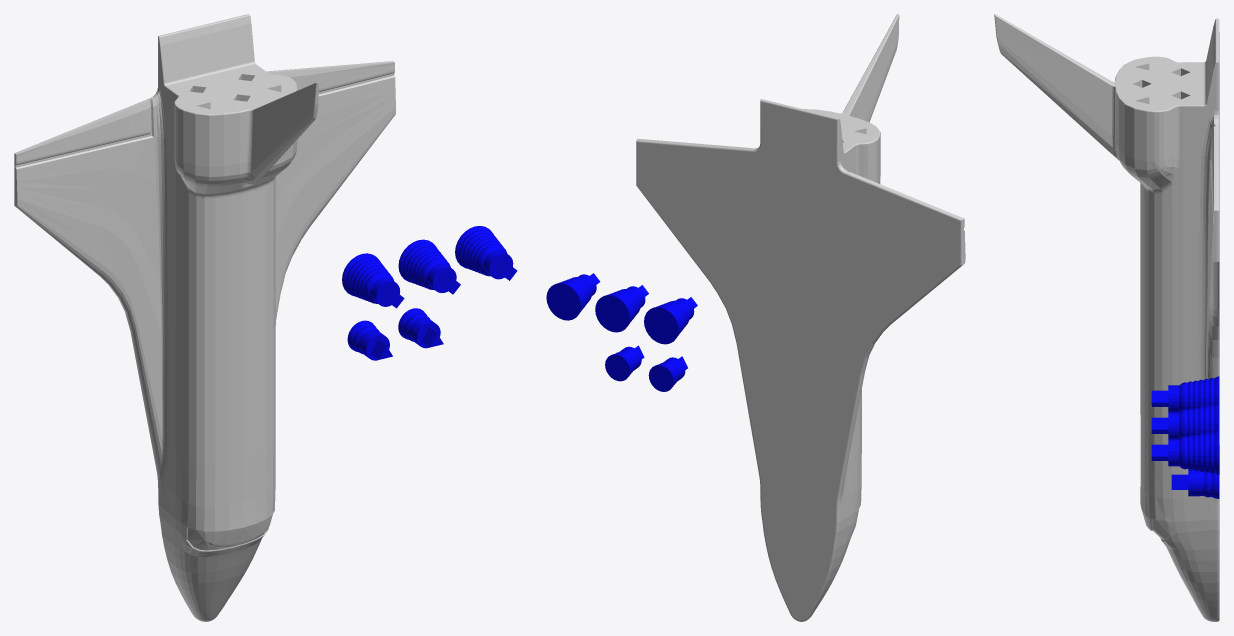
The model's file is Space Shuttle.obj.
The picture shows the model from 3 angles, left to right: view 1: azimuth 30°, elevation 25°; view 2: azimuth 150°, elevation 25°; view 3: azimuth 270°, elevation 25°; orthographic projection. The views are drawn at different scales.
Visible parts, largest first — view 1: Object.1, Object.5, Object.2, Object.4, Object.6, Object.3; view 2: Object.1, Object.2, Object.4, Object.5, Object.3, Object.6; view 3: Object.1, Object.2, Object.5, Object.4, Object.3.
Part boxes in pixels (box(x1,y1,x2,y2)): Object.1: box(14, 14, 395, 621); Object.5: box(398, 239, 460, 294); Object.2: box(455, 226, 517, 280); Object.4: box(342, 253, 404, 308); Object.6: box(347, 320, 392, 360); Object.3: box(398, 308, 443, 348); Object.1: box(636, 14, 965, 621); Object.2: box(546, 273, 600, 320); Object.4: box(644, 297, 697, 344); Object.5: box(595, 285, 648, 332); Object.3: box(605, 345, 644, 381); Object.6: box(648, 356, 687, 391); Object.1: box(994, 14, 1219, 621); Object.2: box(1151, 430, 1219, 475); Object.5: box(1151, 403, 1219, 439); Object.4: box(1151, 376, 1219, 412); Object.3: box(1171, 469, 1219, 498).
Bounding box in the file's own units: 95.83 × 118 × 39.73.
